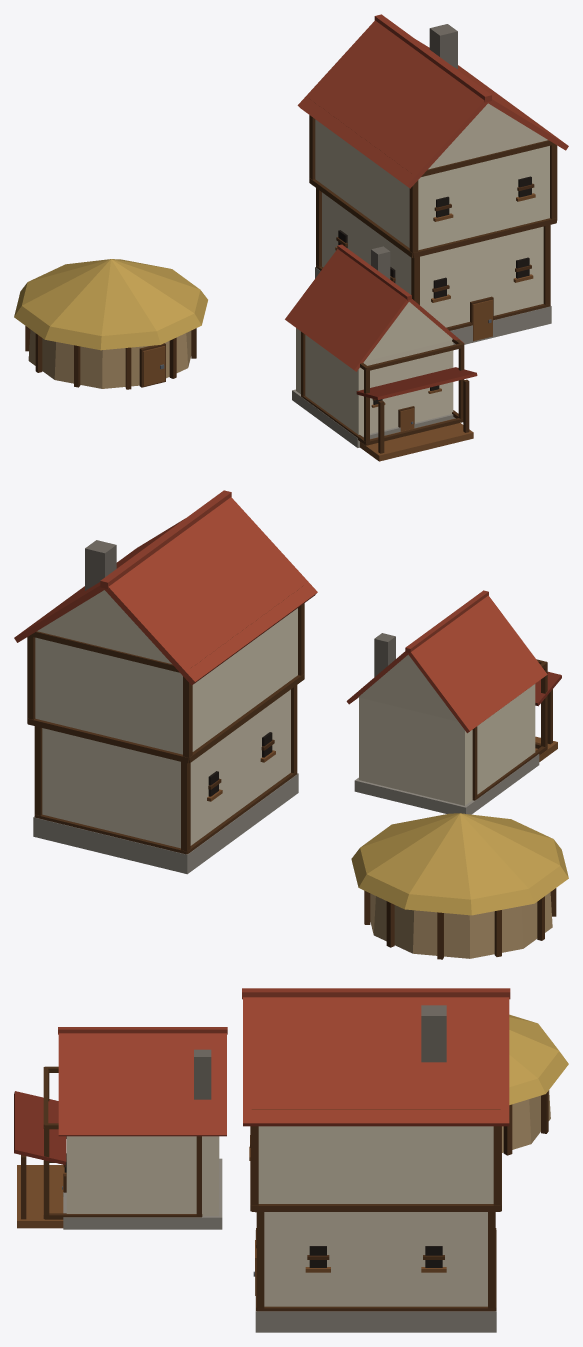
File: human_compound_broken.glb
3 renders of one model, top to bottom at view 1: azimuth 30°, elevation 25°; view 2: azimuth 150°, elevation 25°; view 3: azimuth 270°, elevation 25°, orthographic. The views are drawn at different scales.
Parts seen in each view (by area): view 1: human_compound_piece2, human_compound_piece6, human_compound_piece9, human_compound_piece0, human_compound_piece5, human_compound_piece7, human_compound_piece13, human_compound_piece12, human_compound_piece1, human_compound_piece3, human_compound_piece10, human_compound_piece8 (+1 smaller); view 2: human_compound_piece3, human_compound_piece2, human_compound_piece7, human_compound_piece9, human_compound_piece4, human_compound_piece10, human_compound_piece8, human_compound_piece1, human_compound_piece0, human_compound_piece12, human_compound_piece13; view 3: human_compound_piece13, human_compound_piece5, human_compound_piece9, human_compound_piece0, human_compound_piece3, human_compound_piece10, human_compound_piece1, human_compound_piece2, human_compound_piece6.
Part boxes in pixels (x1=…): human_compound_piece2: x1=14, y1=259, x2=291, y2=389; human_compound_piece6: x1=424, y1=101, x2=551, y2=339; human_compound_piece9: x1=304, y1=244, x2=447, y2=461; human_compound_piece0: x1=368, y1=55, x2=568, y2=214; human_compound_piece5: x1=397, y1=191, x2=477, y2=454; human_compound_piece7: x1=297, y1=37, x2=359, y2=278; human_compound_piece13: x1=384, y1=24, x2=565, y2=293; human_compound_piece12: x1=365, y1=114, x2=457, y2=218; human_compound_piece1: x1=377, y1=204, x2=486, y2=344; human_compound_piece3: x1=337, y1=14, x2=429, y2=176; human_compound_piece10: x1=312, y1=246, x2=443, y2=457; human_compound_piece8: x1=339, y1=131, x2=384, y2=265; human_compound_piece3: x1=24, y1=561, x2=249, y2=854; human_compound_piece2: x1=351, y1=722, x2=568, y2=959; human_compound_piece7: x1=125, y1=605, x2=238, y2=874; human_compound_piece9: x1=401, y1=590, x2=561, y2=762; human_compound_piece4: x1=215, y1=679, x2=493, y2=853; human_compound_piece10: x1=352, y1=633, x2=541, y2=800; human_compound_piece8: x1=109, y1=614, x2=270, y2=863; human_compound_piece1: x1=256, y1=643, x2=404, y2=810; human_compound_piece0: x1=137, y1=490, x2=261, y2=621; human_compound_piece12: x1=240, y1=530, x2=317, y2=679; human_compound_piece13: x1=14, y1=534, x2=201, y2=668; human_compound_piece13: x1=244, y1=988, x2=509, y2=1332; human_compound_piece5: x1=14, y1=1103, x2=250, y2=1229; human_compound_piece9: x1=14, y1=1027, x2=227, y2=1176; human_compound_piece0: x1=242, y1=988, x2=377, y2=1158; human_compound_piece3: x1=447, y1=988, x2=510, y2=1332; human_compound_piece10: x1=17, y1=1041, x2=226, y2=1193; human_compound_piece1: x1=135, y1=1122, x2=256, y2=1239; human_compound_piece2: x1=502, y1=1014, x2=568, y2=1155; human_compound_piece6: x1=250, y1=1134, x2=268, y2=1332.
Bounding box in the file's own units: 5.29 × 2.76 × 4.6.
